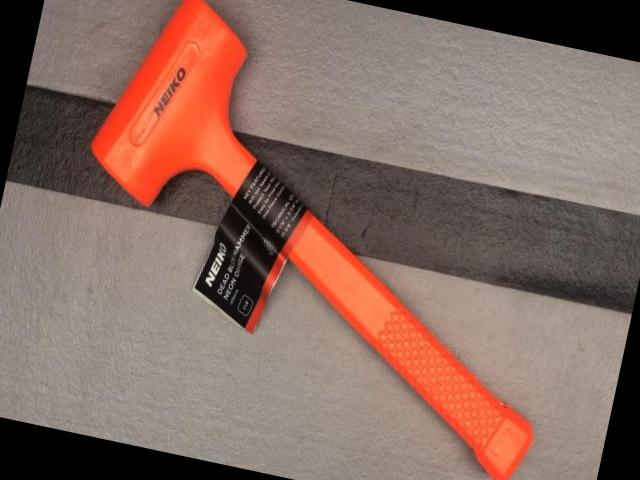hammer: (39, 0, 610, 480)
